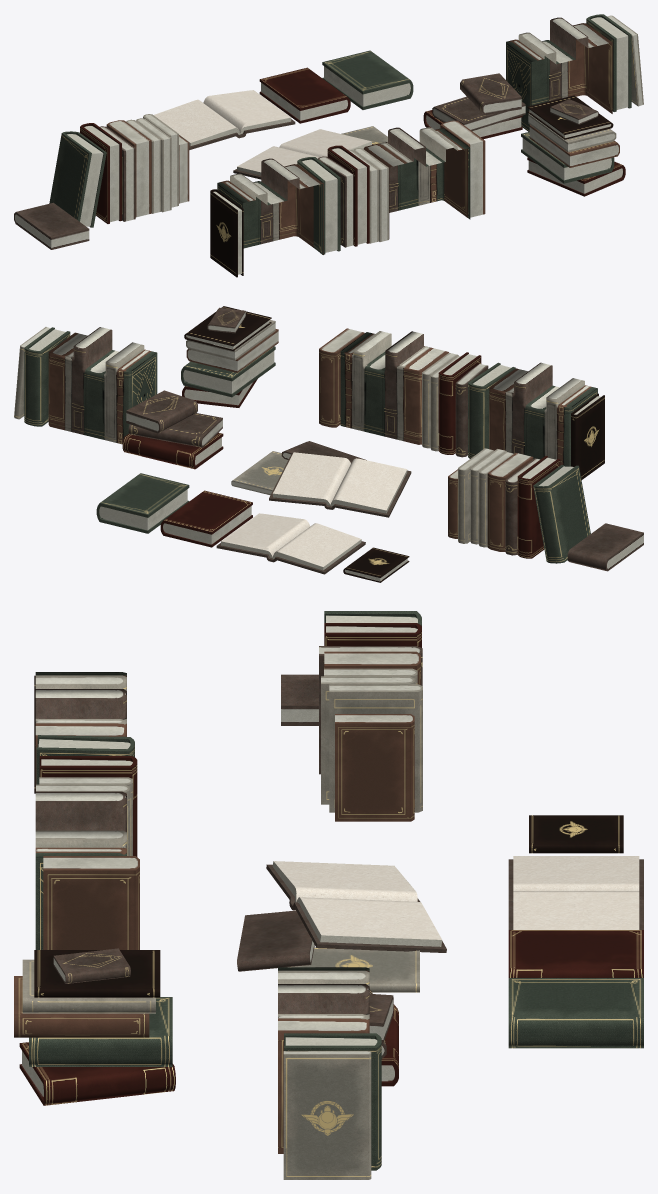
File: vintage_books.glb
The picture shows the model from 3 angles, top to bottom: view 1: azimuth 30°, elevation 25°; view 2: azimuth 150°, elevation 25°; view 3: azimuth 270°, elevation 25°; orthographic projection. The views are drawn at different scales.
Parts seen in each view (by area): view 1: prop_books_03_inst_001, prop_books_01_inst_001, prop_books_02_inst_001, prop_books_05_inst_001, prop_book_04_inst_001, prop_book_03_inst_002, prop_book_02_inst_001, prop_books_04_inst_001; view 2: prop_books_03_inst_001, prop_books_02_inst_001, prop_books_01_inst_001, prop_books_04_inst_001, prop_books_05_inst_001, prop_book_04_inst_001, prop_book_03_inst_002, prop_book_02_inst_001, prop_book_03_inst_001; view 3: prop_books_03_inst_001, prop_books_01_inst_001, prop_books_02_inst_001, prop_books_05_inst_001, prop_books_04_inst_001, prop_book_04_inst_001, prop_book_03_inst_002, prop_book_02_inst_001, prop_book_03_inst_001.
Boxes of the visible parts, bbox=[...] form: prop_books_03_inst_001: bbox=[210, 120, 485, 277]; prop_books_01_inst_001: bbox=[14, 114, 189, 249]; prop_books_02_inst_001: bbox=[423, 14, 643, 139]; prop_books_05_inst_001: bbox=[521, 95, 625, 196]; prop_book_04_inst_001: bbox=[154, 90, 295, 149]; prop_book_03_inst_002: bbox=[322, 50, 413, 109]; prop_book_02_inst_001: bbox=[259, 67, 350, 123]; prop_books_04_inst_001: bbox=[233, 126, 387, 179]; prop_books_03_inst_001: bbox=[319, 328, 604, 479]; prop_books_02_inst_001: bbox=[14, 327, 223, 469]; prop_books_01_inst_001: bbox=[448, 448, 643, 571]; prop_books_04_inst_001: bbox=[231, 441, 411, 517]; prop_books_05_inst_001: bbox=[181, 306, 278, 407]; prop_book_04_inst_001: bbox=[216, 513, 365, 574]; prop_book_03_inst_002: bbox=[96, 473, 189, 533]; prop_book_02_inst_001: bbox=[160, 490, 252, 547]; prop_book_03_inst_001: bbox=[343, 547, 409, 582]; prop_books_03_inst_001: bbox=[34, 672, 139, 949]; prop_books_01_inst_001: bbox=[281, 611, 422, 821]; prop_books_02_inst_001: bbox=[278, 967, 398, 1179]; prop_books_05_inst_001: bbox=[14, 948, 175, 1105]; prop_books_04_inst_001: bbox=[237, 861, 446, 992]; prop_book_04_inst_001: bbox=[508, 856, 643, 929]; prop_book_03_inst_002: bbox=[508, 978, 643, 1048]; prop_book_02_inst_001: bbox=[508, 930, 643, 977]; prop_book_03_inst_001: bbox=[529, 815, 623, 853].
Size of the model in its own units: 3.55 by 0.4888 by 1.95.
1 material, 1 textured.
